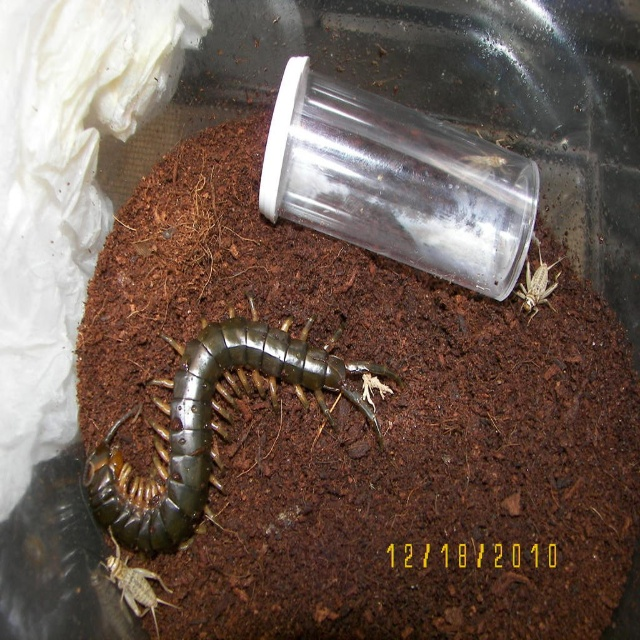Centipede: (86, 317, 403, 557)
